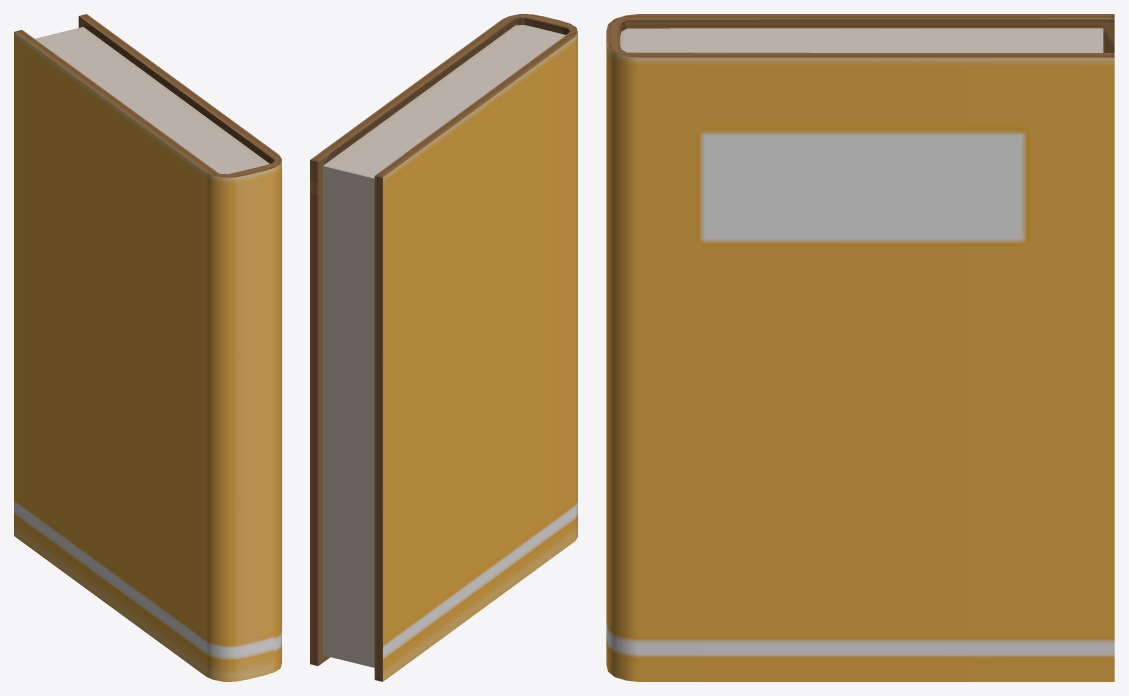
The model's file is book.fbx.
The picture shows the model from 3 angles, left to right: view 1: azimuth 30°, elevation 25°; view 2: azimuth 150°, elevation 25°; view 3: azimuth 270°, elevation 25°; orthographic projection. The views are drawn at different scales.
Visible parts, largest first — view 1: _005_book; view 2: _005_book; view 3: _005_book.
Part boxes in pixels (x1,y1,x2,y2): _005_book: [14, 14, 281, 681]; _005_book: [310, 14, 577, 681]; _005_book: [606, 14, 1114, 681].
Bounding box in the file's own units: 0.3721 × 2.46 × 1.82.
